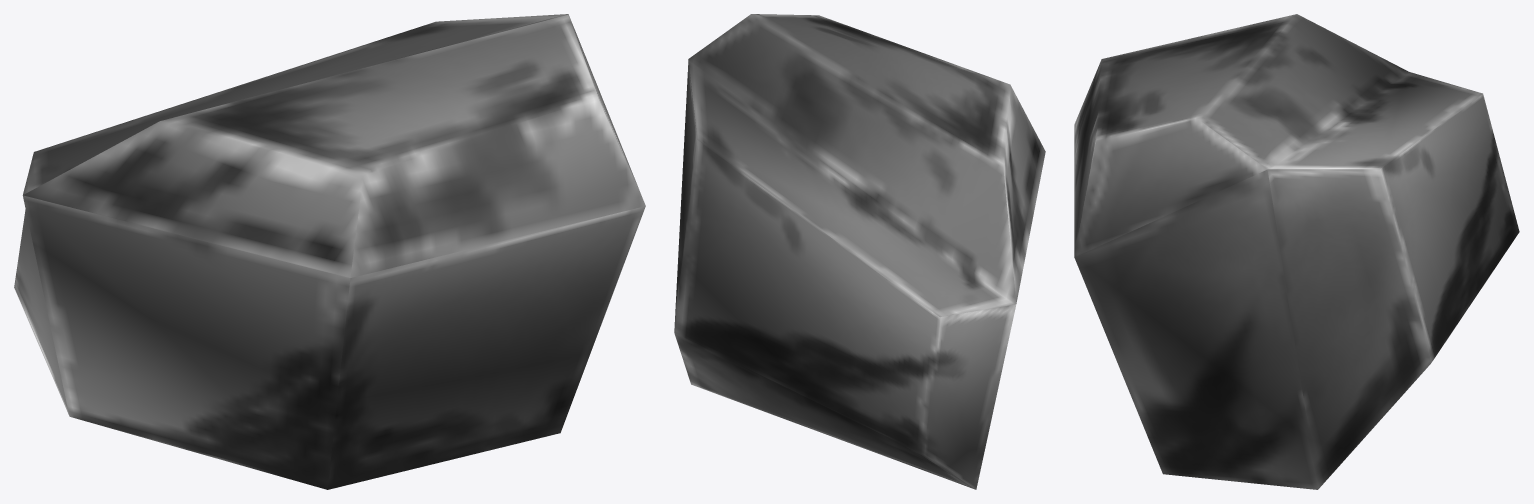
Rendered from SM_Rock_15.fbx.
3 views of the same model, side by side, from view 1: azimuth 30°, elevation 25°; view 2: azimuth 150°, elevation 25°; view 3: azimuth 270°, elevation 25° (orthographic). The views are drawn at different scales.
Visible parts, largest first — view 1: Roca 8; view 2: Roca 8; view 3: Roca 8.
Boxes of the visible parts, x1,y1,x2,y2 form: Roca 8: (14, 14, 645, 489); Roca 8: (674, 14, 1045, 489); Roca 8: (1074, 14, 1519, 489).
Size of the model in its own units: 3.18 by 2.57 by 2.83.
Materials: 1 (1 with a texture image).
